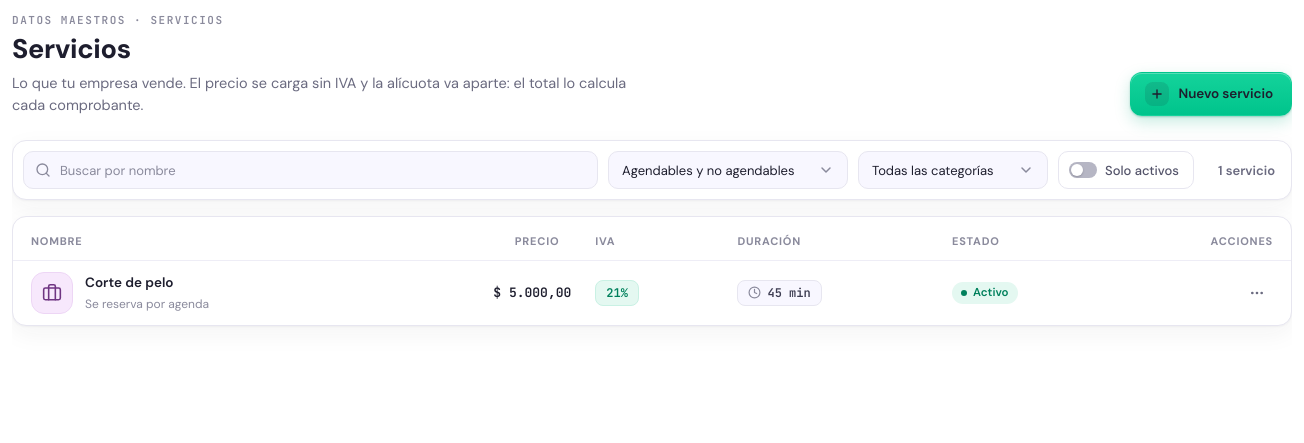
Test: ListadoDeServicios › Desactivar y Editar están dentro del menú, no sueltos en la fila
Expected: the menu item "Editar" is not shown
Click the button named "Más acciones para Corte de pelo" at (1257, 293), box [1241,277,1273,309]
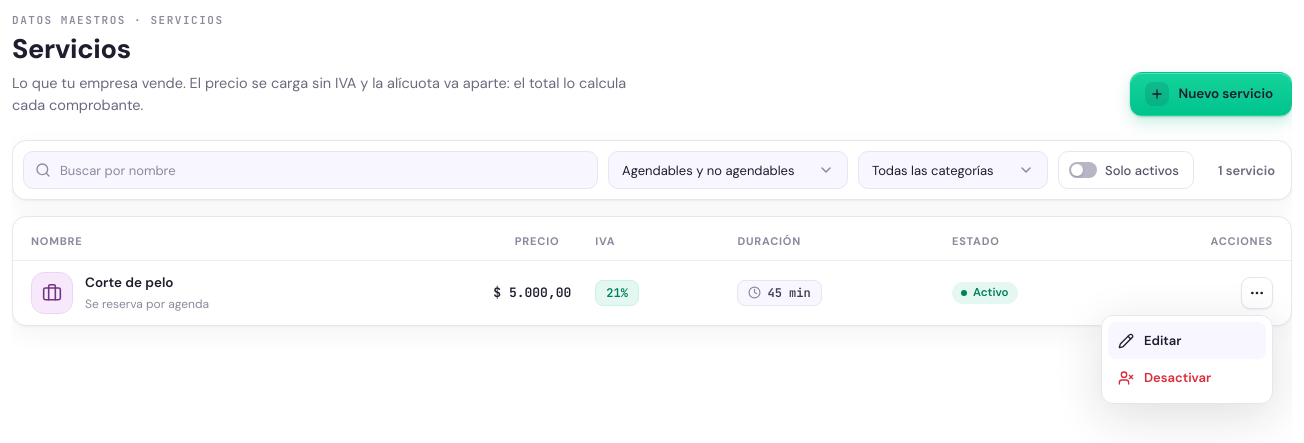
Expected: the menu item "Editar" is shown, [1108,322,1266,359]
Expected: the menu item "Desactivar" is shown, [1108,359,1266,397]
